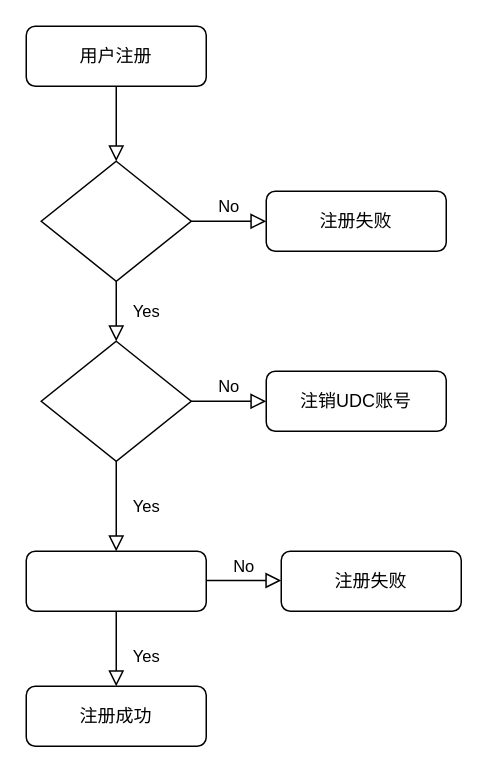
The diagram is 488 pixels wide and 773 high, and some of its shapes have lost their labels. The shapes that lost their labels are listed below. From the top down, each one's box as (x1, y1, x2, y2) in pixels, then its label:
(40, 160, 191, 281): 调用UDC注册
(40, 340, 191, 461): 过安全黑号检测
(25, 550, 206, 611): 添加业务用户映射表
